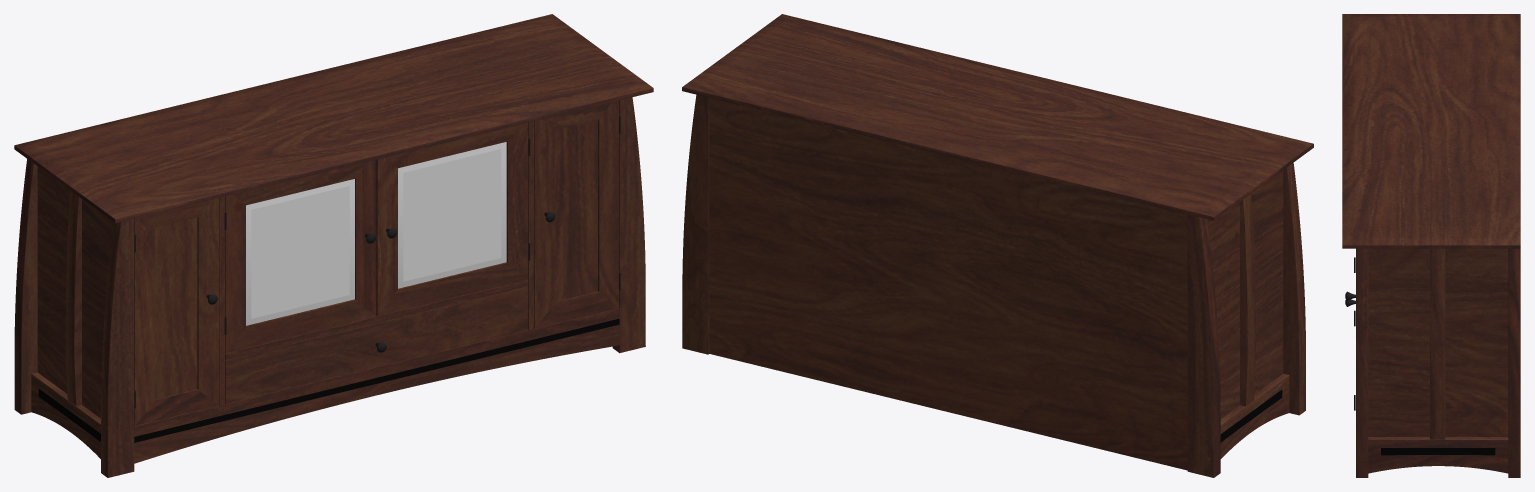
Rendered from MOD_ART_ThreeRooms.fbx_TV_Cabinet.fbx.
3 renders of one model, left to right at view 1: azimuth 30°, elevation 25°; view 2: azimuth 150°, elevation 25°; view 3: azimuth 270°, elevation 25°, orthographic. The views are drawn at different scales.
Parts seen in each view (by area): view 1: TV Cabinet; view 2: TV Cabinet; view 3: TV Cabinet.
Boxes of the visible parts, x1,y1,x2,y2 form: TV Cabinet: [14, 14, 653, 477]; TV Cabinet: [682, 14, 1313, 477]; TV Cabinet: [1342, 14, 1520, 477].
Bounding box in the file's own units: 168 × 79.38 × 54.61.
4 materials, 1 textured.
